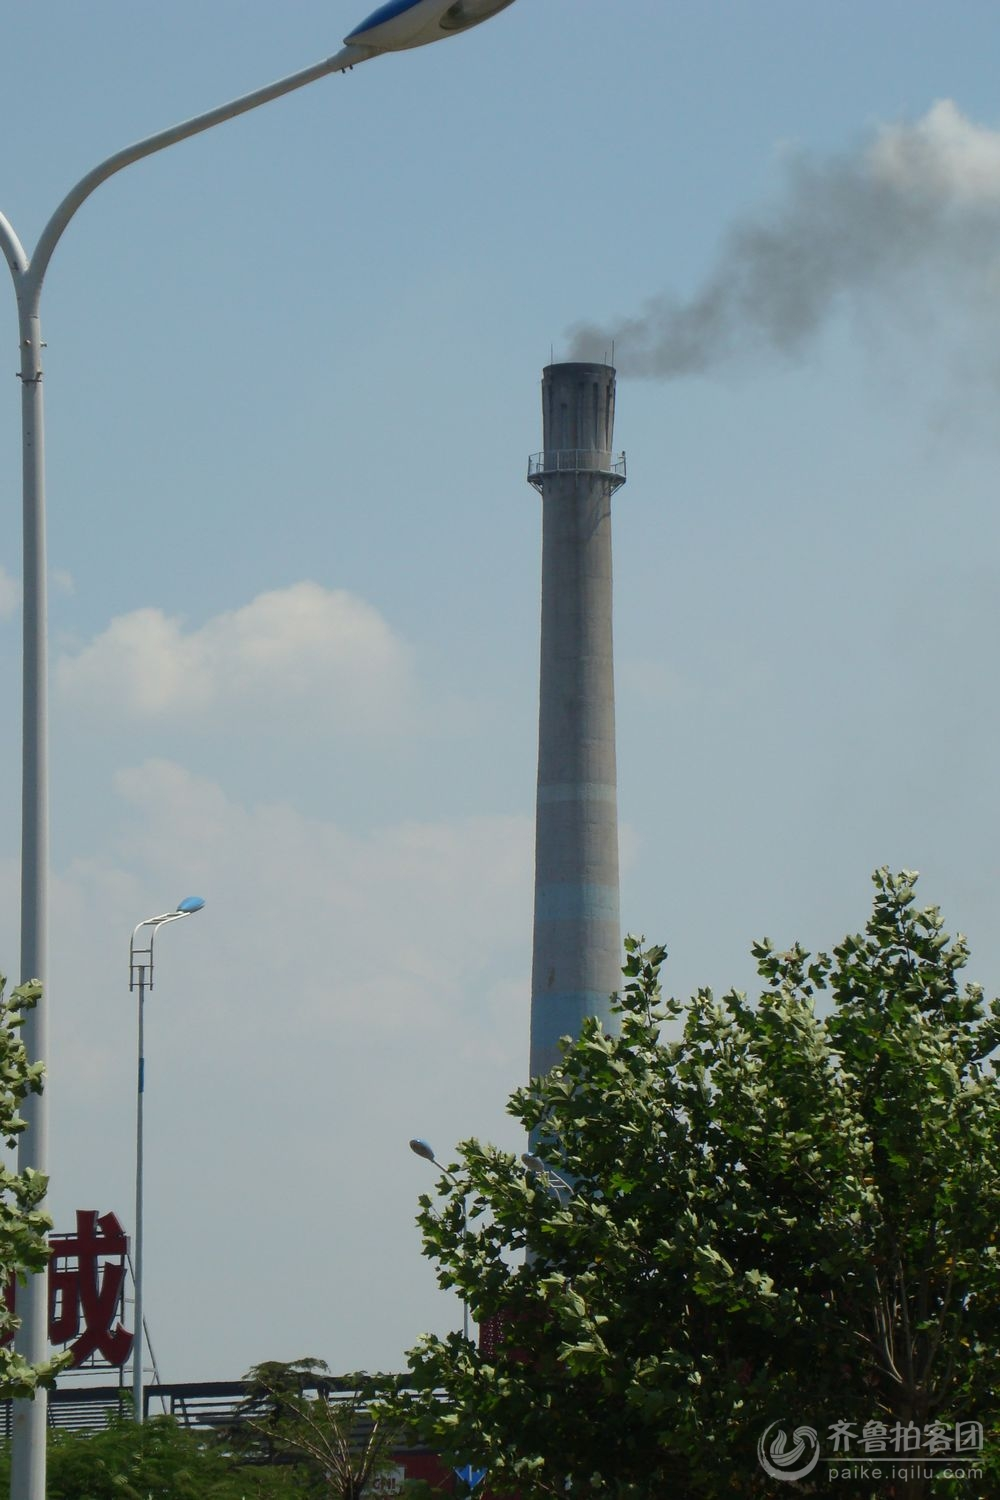dust: (540, 136, 980, 401)
